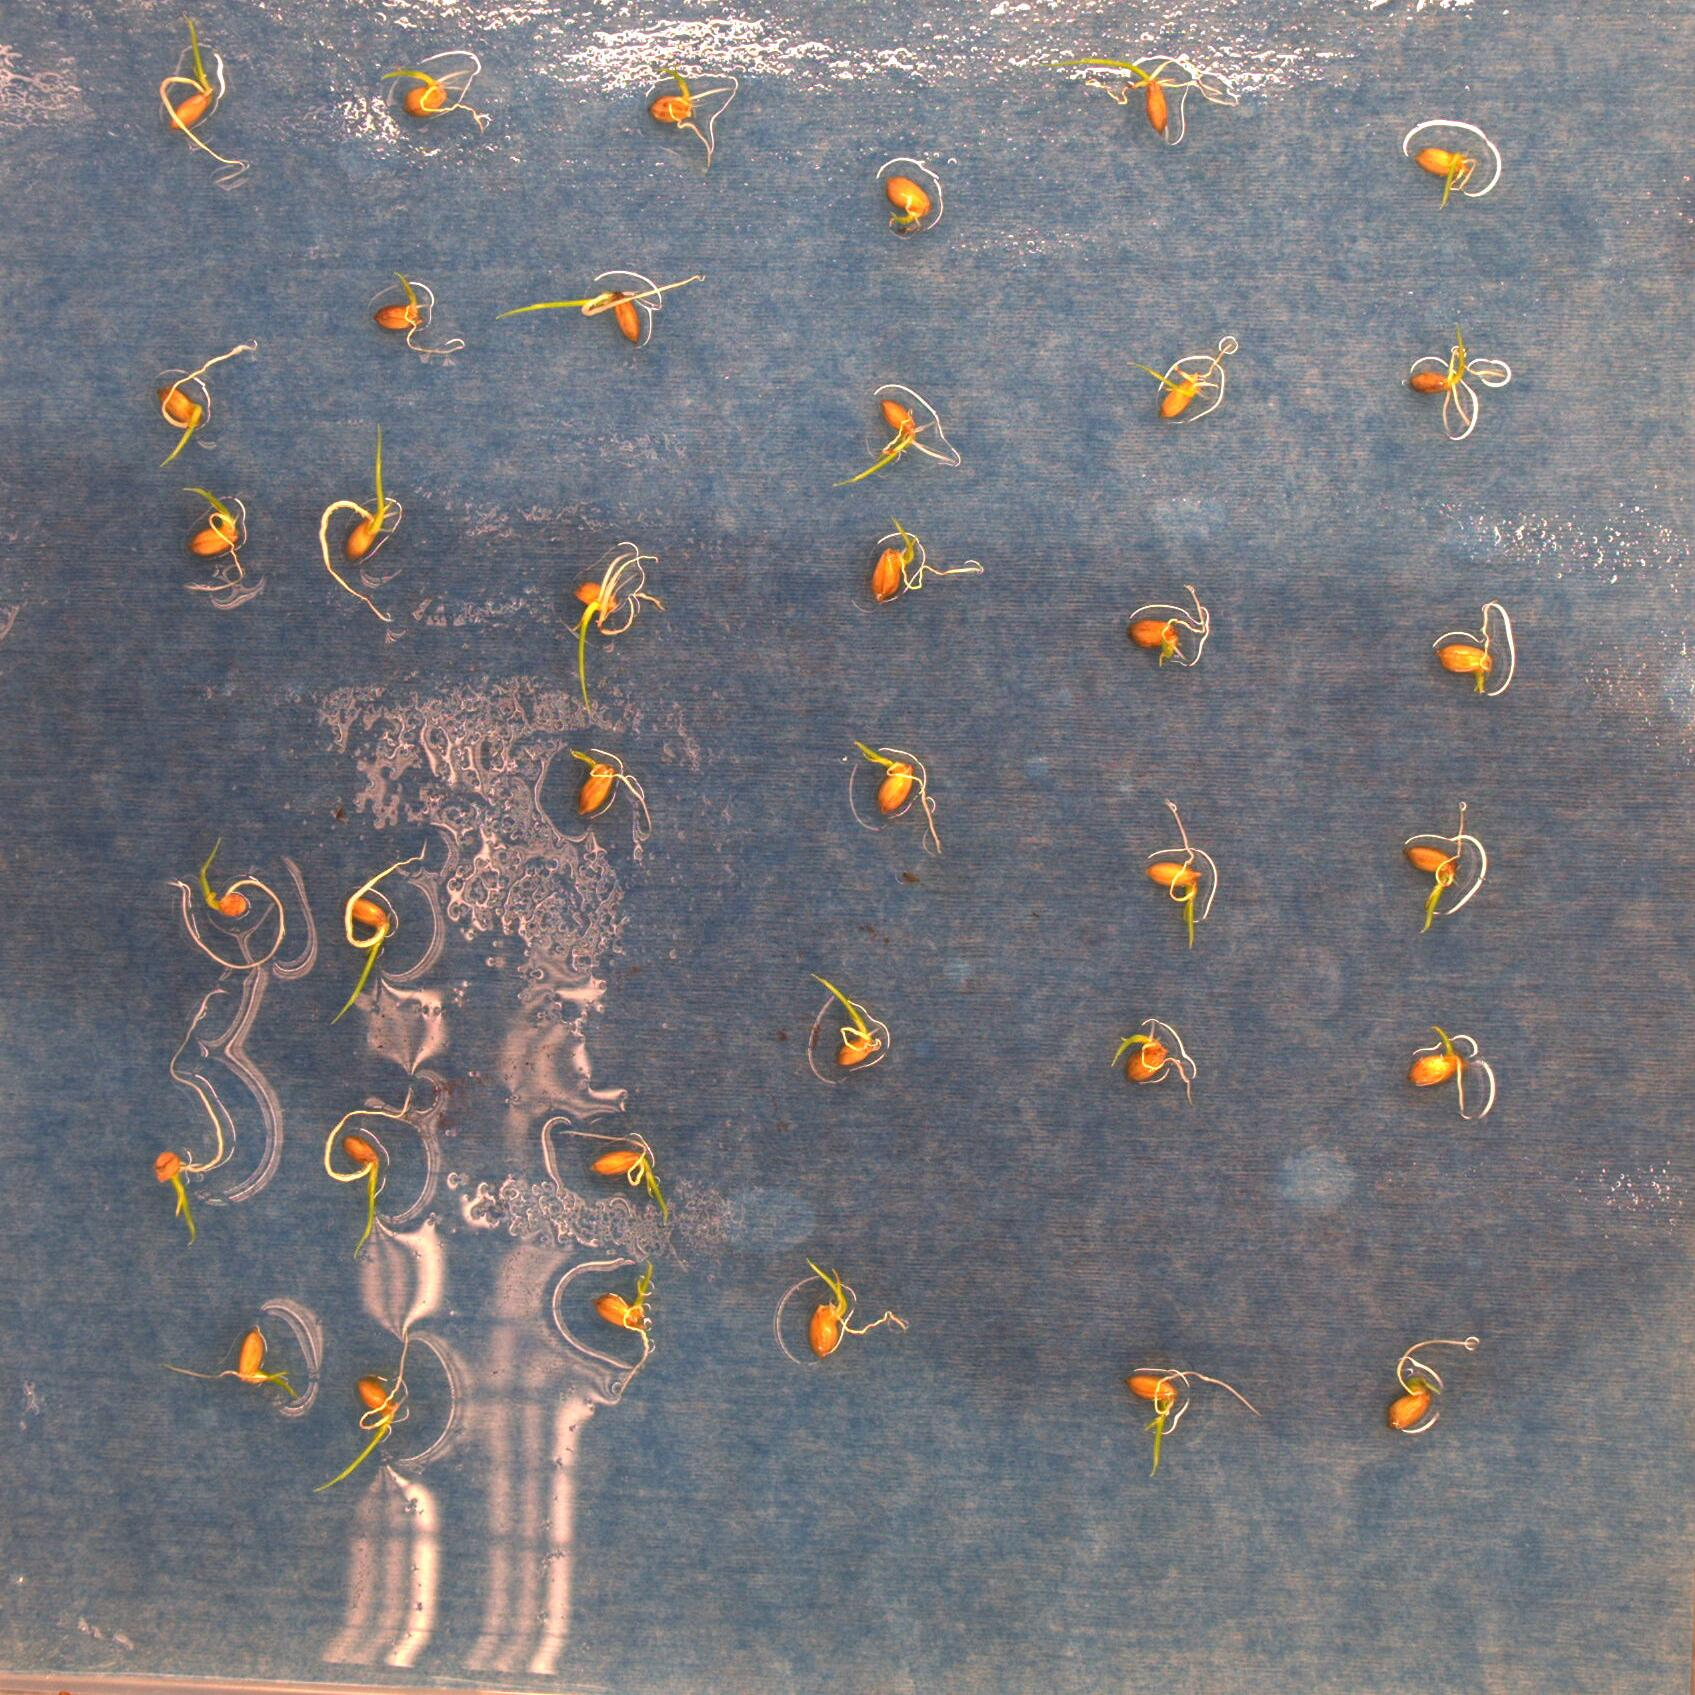not sprout: (1436, 602, 1516, 694)
sprout: (492, 275, 706, 363), (151, 993, 224, 1250), (318, 421, 404, 626), (331, 840, 425, 1021), (307, 1329, 414, 1487), (570, 540, 661, 723), (168, 830, 282, 970), (1048, 53, 1212, 147), (324, 1080, 408, 1260), (1133, 1361, 1256, 1478), (830, 396, 959, 492), (796, 1245, 910, 1354), (157, 19, 237, 168), (560, 1119, 669, 1225), (154, 343, 247, 464), (650, 42, 736, 172), (161, 1324, 298, 1402), (1132, 332, 1237, 430), (866, 518, 983, 605), (594, 1243, 657, 1405), (1406, 328, 1507, 425), (854, 736, 941, 843), (1142, 802, 1205, 951), (563, 733, 653, 832), (1403, 806, 1465, 939), (806, 969, 886, 1068), (185, 489, 258, 593), (369, 273, 466, 351), (380, 62, 486, 130), (1111, 1012, 1192, 1101), (1391, 1336, 1467, 1426), (1128, 579, 1205, 664), (1406, 1024, 1471, 1121), (1414, 140, 1489, 206), (875, 177, 925, 234)
